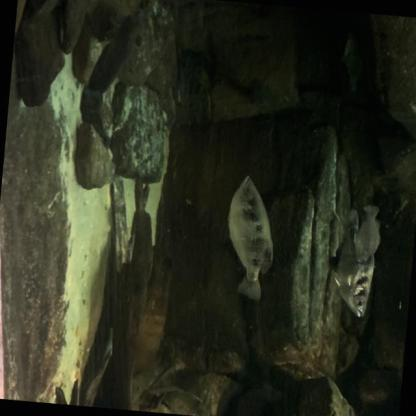fish: (219, 173, 281, 305), (328, 205, 380, 320), (351, 201, 383, 268)
